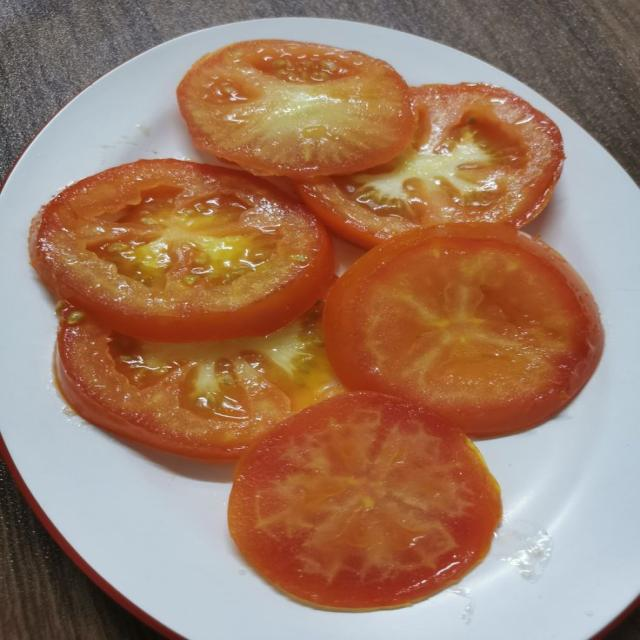sliced_tomato: (324, 224, 603, 437), (229, 393, 501, 609), (30, 160, 334, 341), (55, 304, 341, 460), (297, 84, 563, 247), (178, 40, 413, 178)
